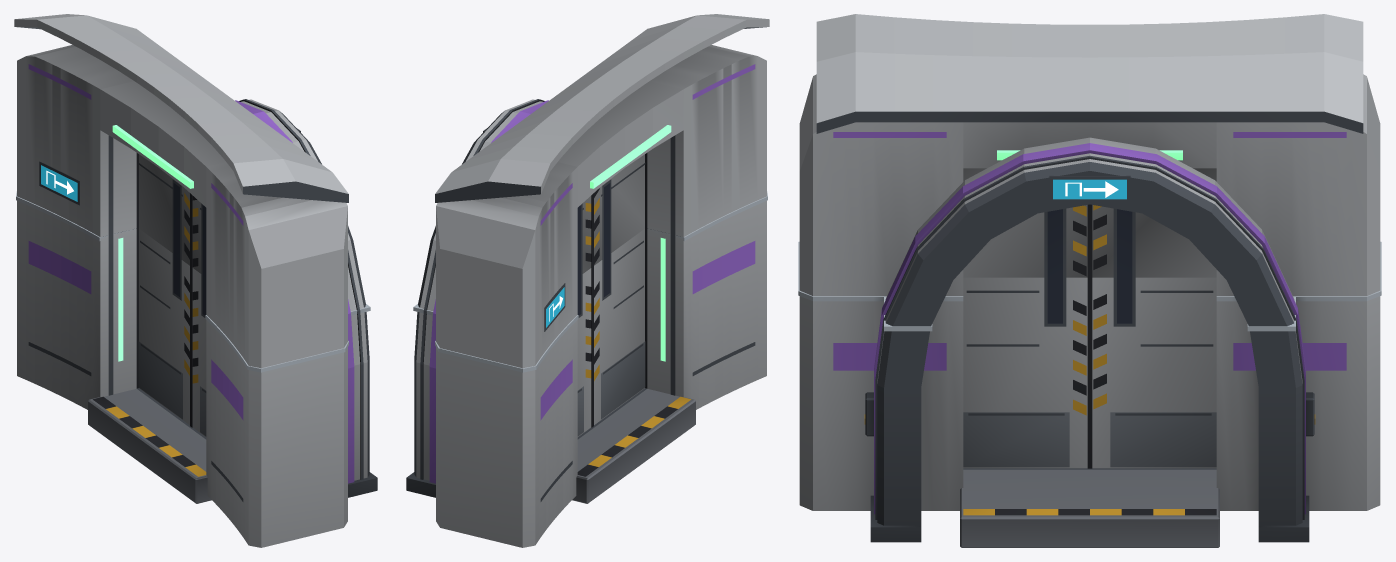
File: doorway_r700.glb
3 views of the same model, side by side, from view 1: azimuth 30°, elevation 25°; view 2: azimuth 150°, elevation 25°; view 3: azimuth 270°, elevation 25° (orthographic). The views are drawn at different scales.
Visible parts, largest first — view 1: FrameTop, Frame, DoorR, DoorRTop, DoorL, FrameCap, DoorLTop, Sign, Status, Lights; view 2: FrameTop, Frame, DoorL, DoorLTop, DoorR, FrameCap, DoorRTop, Status, Lights, Sign; view 3: FrameTop, Frame, DoorL, DoorR, DoorLTop, DoorRTop, Sign, FrameCap.
Part boxes in pixels (x1,y1,x2,y2): FrameTop: (14, 14, 365, 368); Frame: (17, 201, 377, 547); DoorR: (138, 229, 190, 426); DoorRTop: (138, 154, 190, 266); DoorL: (191, 267, 206, 436); FrameCap: (16, 191, 370, 372); DoorLTop: (191, 194, 206, 277); Sign: (39, 128, 300, 205); Status: (112, 125, 193, 188); Lights: (118, 238, 123, 361); FrameTop: (418, 14, 769, 368); Frame: (406, 201, 766, 547); DoorL: (593, 229, 645, 426); DoorLTop: (593, 154, 645, 266); DoorR: (577, 267, 592, 436); FrameCap: (413, 191, 767, 372); DoorRTop: (577, 194, 592, 277); Status: (590, 125, 671, 188); Lights: (660, 238, 665, 361); Sign: (483, 128, 565, 331); FrameTop: (799, 14, 1380, 326); Frame: (799, 296, 1380, 547); DoorL: (963, 277, 1089, 468); DoorR: (1090, 277, 1216, 468); DoorLTop: (963, 168, 1089, 277); DoorRTop: (1090, 168, 1216, 277); Sign: (1049, 175, 1130, 202); FrameCap: (798, 241, 1381, 331).
Bounding box in the file's own units: 1.29 × 2.93 × 3.46.
